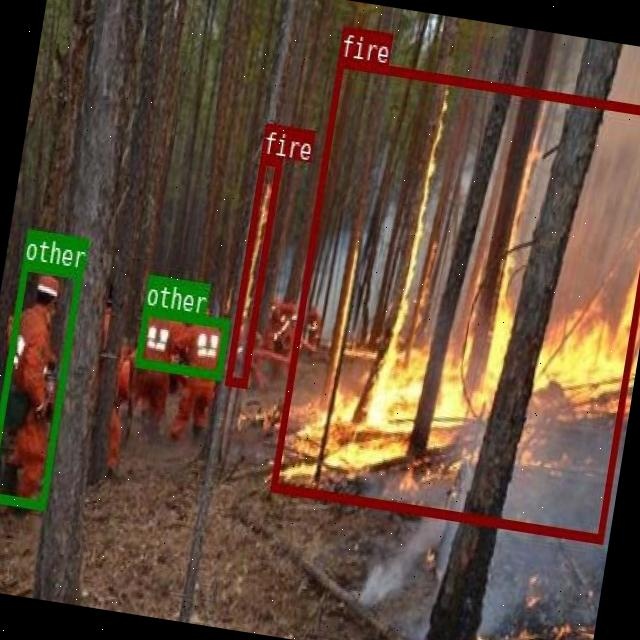fire: (270, 57, 640, 540), (225, 154, 282, 387)
